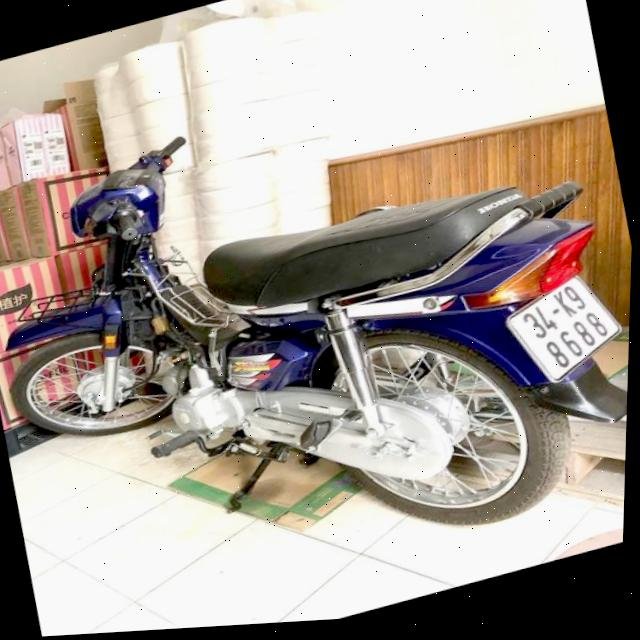motorcycle: (0, 21, 638, 640)
plate: (492, 260, 631, 394)
